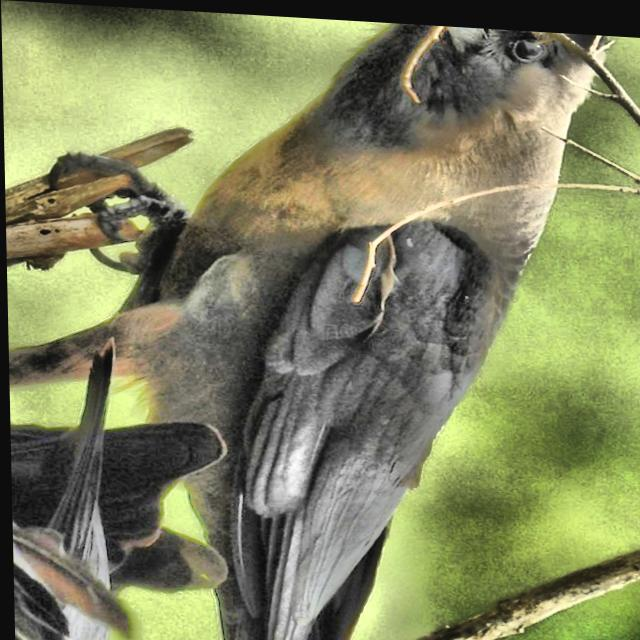crow: (0, 1, 640, 640)
